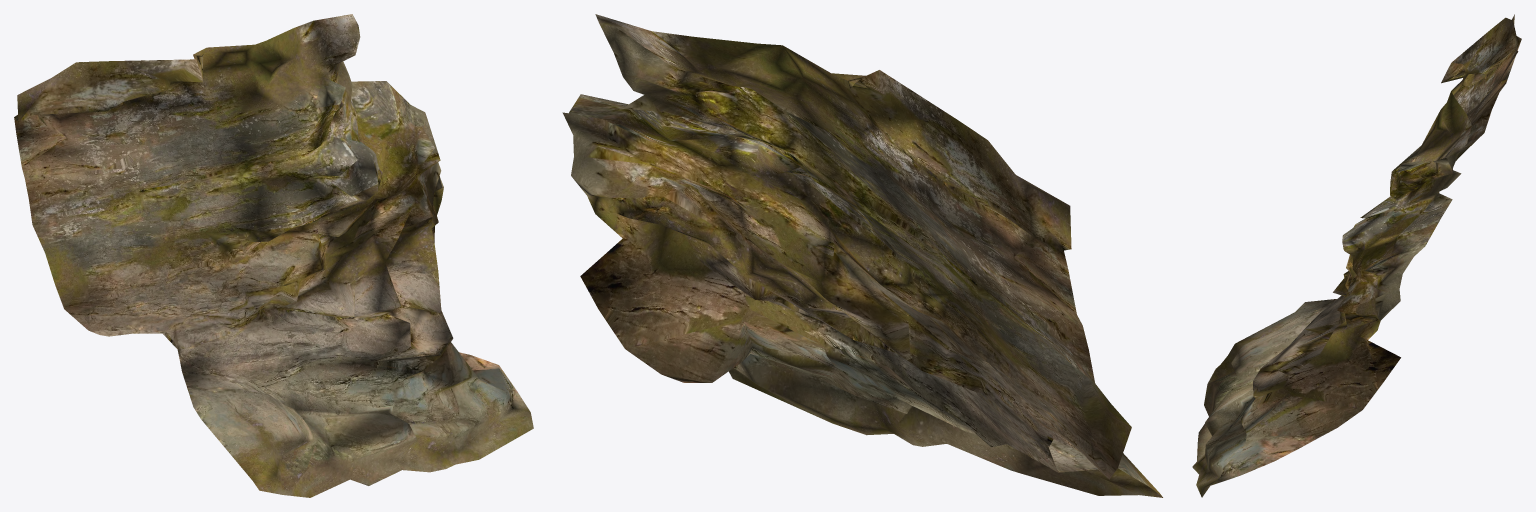
The model's file is rock_face_02.glb.
3 views of the same model, side by side, from view 1: azimuth 30°, elevation 25°; view 2: azimuth 150°, elevation 25°; view 3: azimuth 270°, elevation 25° (orthographic). The views are drawn at different scales.
Parts seen in each view (by area): view 1: rock_face_02; view 2: rock_face_02; view 3: rock_face_02.
Part boxes in pixels (x1,y1,x2,y2): rock_face_02: (14,14,533,497); rock_face_02: (562,14,1162,497); rock_face_02: (1192,14,1521,497).
Bounding box in the file's own units: 2.71 × 2.47 × 2.13.
1 material, 1 textured.
